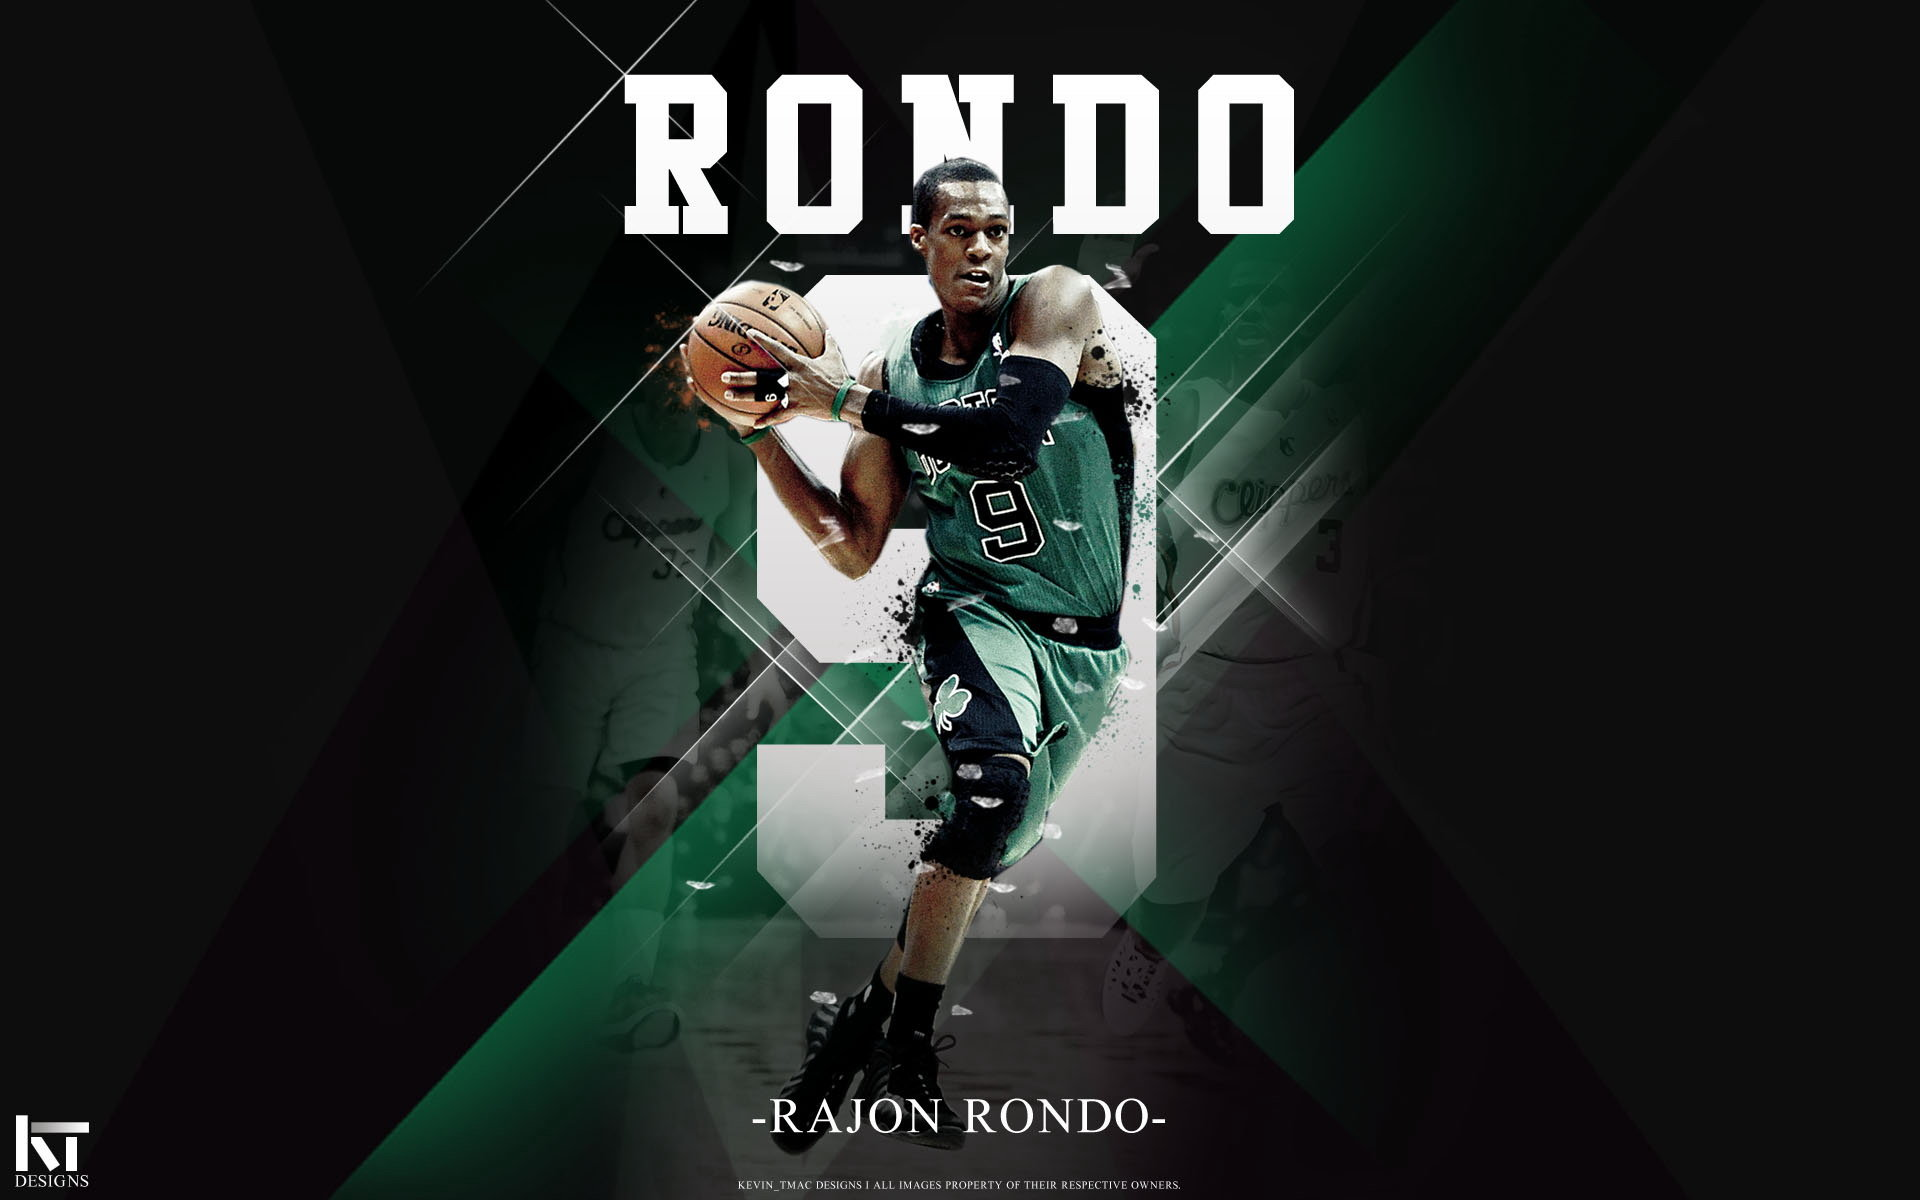ball: (686, 276, 834, 426)
